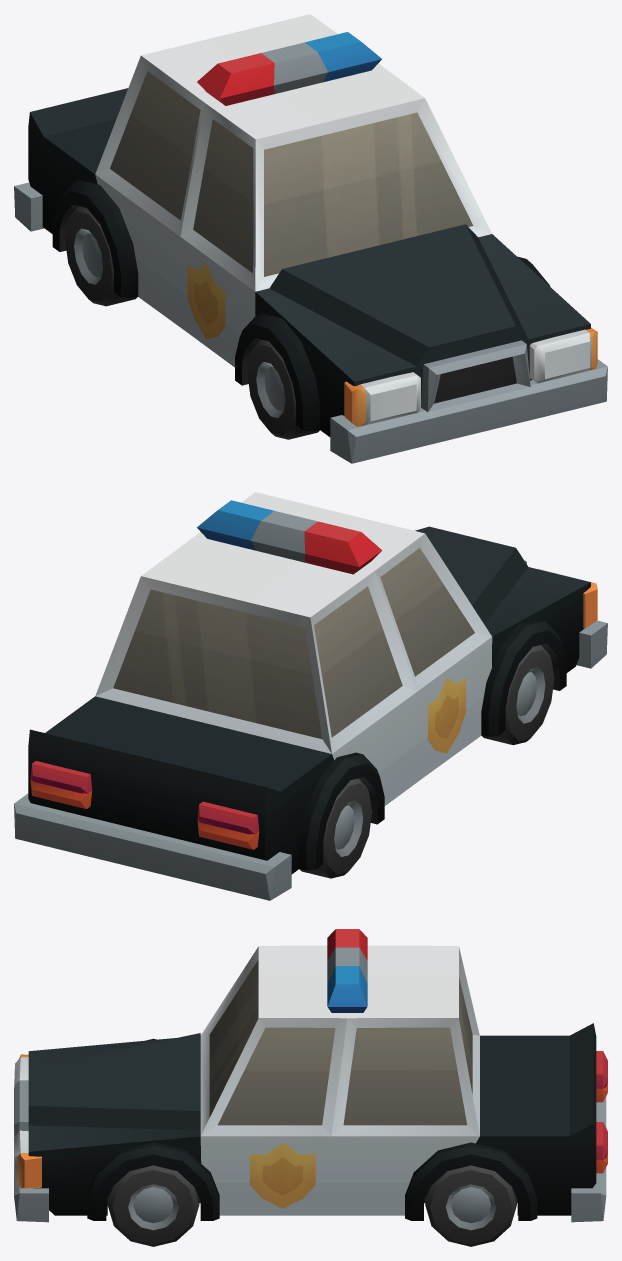
Rendered from car_police.gltf.
3 renders of one model, top to bottom at view 1: azimuth 30°, elevation 25°; view 2: azimuth 150°, elevation 25°; view 3: azimuth 270°, elevation 25°, orthographic. The views are drawn at different scales.
Visible parts, largest first — view 1: car_police, car_police_wheel_rear_right, car_police_wheel_front_right; view 2: car_police, car_police_wheel_front_right, car_police_wheel_rear_right; view 3: car_police, car_police_wheel_front_left, car_police_wheel_rear_left.
Part boxes in pixels (bbox=[...]): car_police: bbox=[14, 14, 607, 463]; car_police_wheel_rear_right: bbox=[65, 206, 137, 306]; car_police_wheel_front_right: bbox=[247, 339, 319, 439]; car_police: bbox=[14, 492, 607, 900]; car_police_wheel_front_right: bbox=[482, 645, 554, 745]; car_police_wheel_rear_right: bbox=[299, 778, 372, 878]; car_police: bbox=[14, 929, 607, 1222]; car_police_wheel_front_left: bbox=[107, 1165, 199, 1246]; car_police_wheel_rear_left: bbox=[425, 1165, 516, 1246].
Bounding box in the file's own units: 0.419 × 0.4126 × 0.9381.
Materials: 1 (1 with a texture image).
